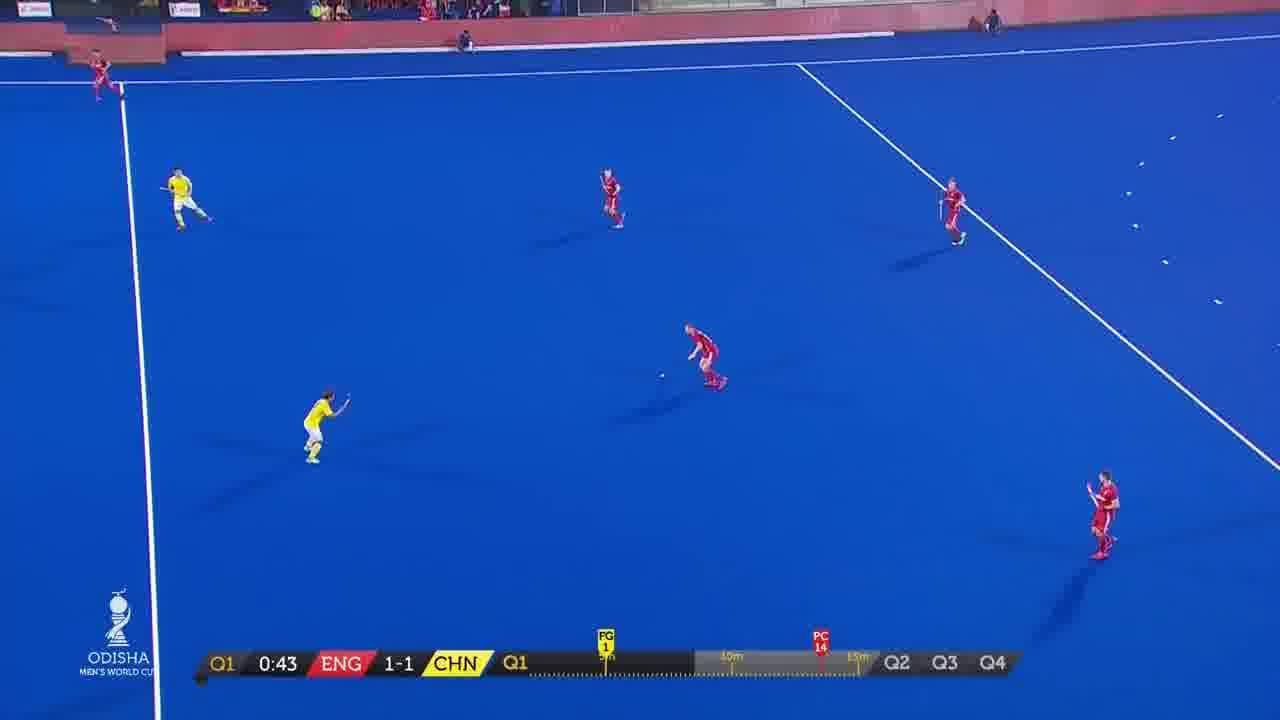ball: (654, 372, 668, 380)
